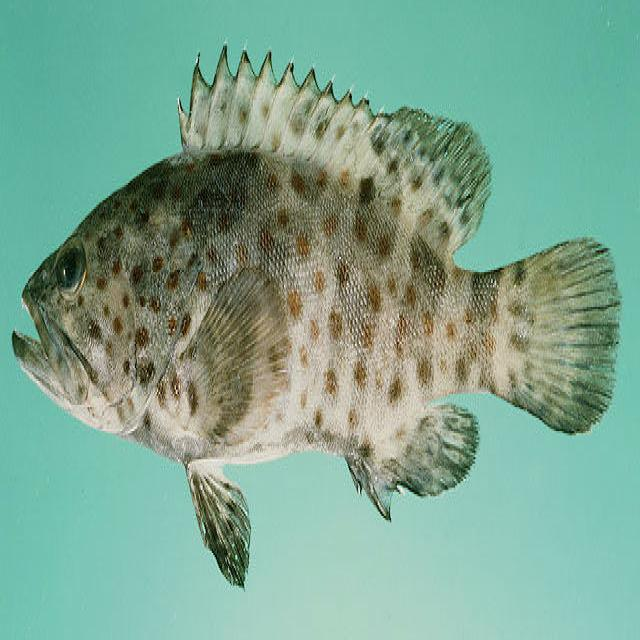ikan: (11, 39, 622, 590)
